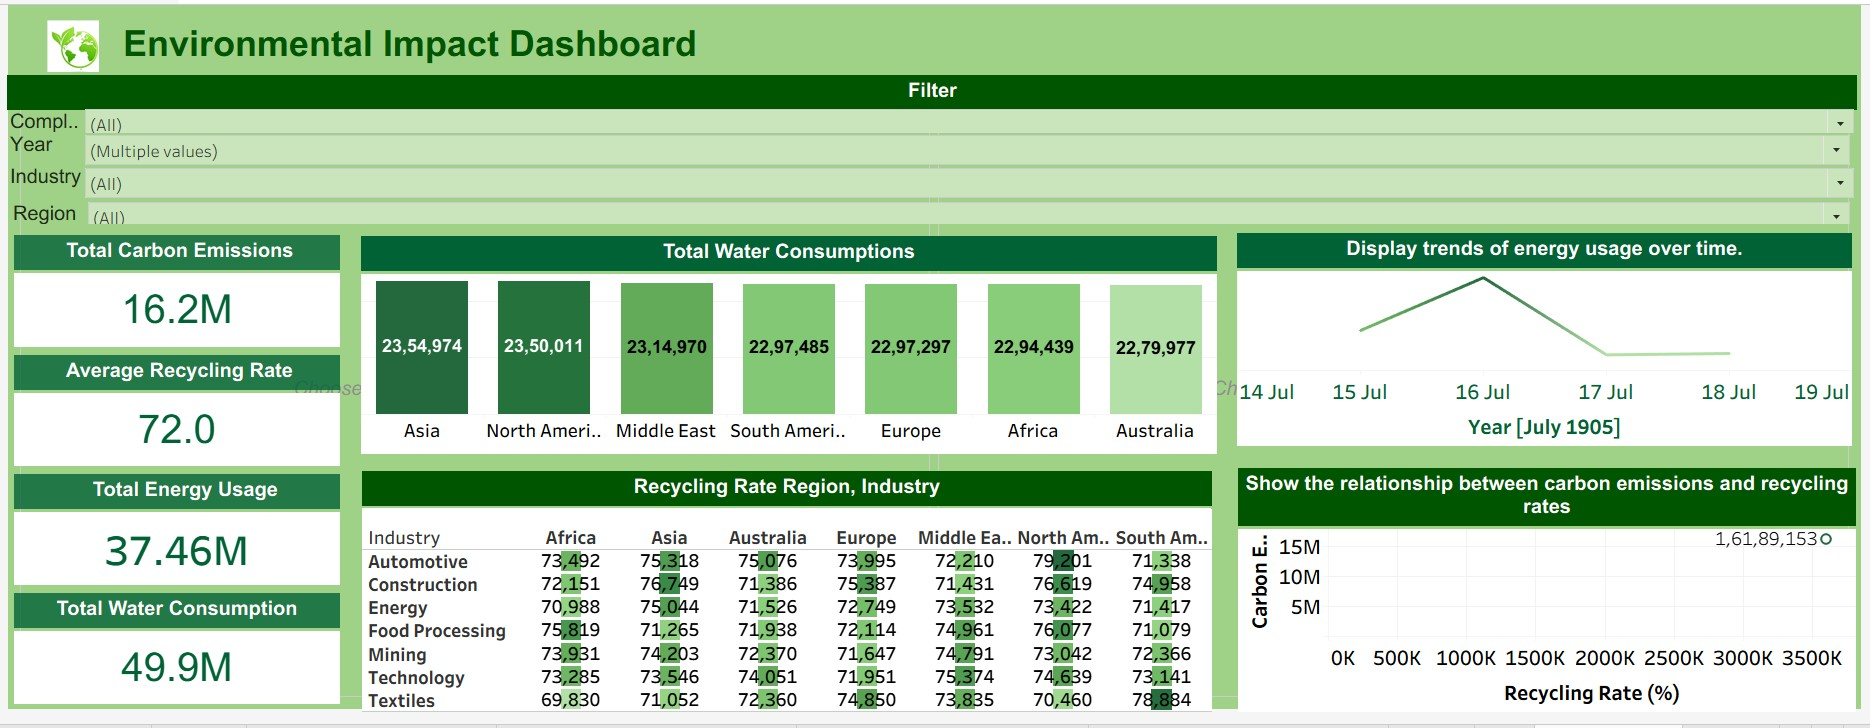

What the dashboard file says about the page in this screenshot:
{"tool":"tableau","page":{"name":"Dashboard 1","canvas":[1000,1000],"units":"permille","ordinal":0},"visuals":[{"type":"title","box":[4.3,11.4,991.4,88.1]},{"type":"image","box":[4.3,99.4,495.6,889.2]},{"type":"image","box":[500,99.4,495.7,889.2]},{"type":"filter","title":"filter","param":"[federated.0egbii51g97fl610iy6wa0r9moq6].[none:Compliance Level:nk]","box":[1.1,147.7,996.8,34.1]},{"type":"filter","title":"filter","param":"[federated.0egbii51g97fl610iy6wa0r9moq6].[yr:Year:ok]","box":[1.1,183.4,994.7,44.9]},{"type":"filter","title":"filter","param":"[federated.0egbii51g97fl610iy6wa0r9moq6].[none:Industry:nk]","box":[1.1,228.2,996.8,50.1]},{"type":"filter","title":"filter","param":"[federated.0egbii51g97fl610iy6wa0r9moq6].[none:Region:nk]","box":[2.7,279.7,993.1,31.7]},{"type":"worksheet","title":"Total Carbon Emissions ","mark":"Automatic","box":[1.1,321,180.2,170.5]},{"type":"worksheet","title":"Display trends of energy usage over time.","mark":"Automatic","rows":["Energy Usage (kWh)"],"cols":["Year"],"box":[663.2,323.9,331.9,302.6]},{"type":"worksheet","title":"Total Water Consumptions","mark":"Automatic","rows":["Carbon Emissions (kg)"],"cols":["Region"],"box":[190.5,328.1,461.9,309.7]},{"type":"worksheet","title":"Average Recycling Rate ","mark":"Automatic","box":[1.1,491.5,180.2,169]},{"type":"worksheet","title":"Sheet 9","mark":"Automatic","rows":["Carbon Emissions (kg)"],"cols":["Recycling Rate (%)"],"box":[664,657,333.5,347]},{"type":"worksheet","title":"Total Energy Usage","mark":"Automatic","box":[1.1,660.5,180.2,169]},{"type":"worksheet","title":"Recycling Rate Region, Industry","mark":"Automatic","rows":["Industry"],"cols":["Region"],"box":[191.3,662.3,458.6,341.7]},{"type":"worksheet","title":"Total Water Consumption","mark":"Automatic","box":[1.1,829.6,180.2,169]}]}

Visuals, with their boxes on the dashboard's canvas, which has no fixed pixel size, in thousandths of its width and height (x1, y1, x2, y2). These are canvas units, not pixel positions in the 1870x728 screenshot, which may show the page scaled, cropped or inside an application window:
title: {"left": 4, "top": 11, "right": 996, "bottom": 100}
image: {"left": 4, "top": 99, "right": 500, "bottom": 989}
image: {"left": 500, "top": 99, "right": 996, "bottom": 989}
"filter" filter: {"left": 1, "top": 148, "right": 998, "bottom": 182}
"filter" filter: {"left": 1, "top": 183, "right": 996, "bottom": 228}
"filter" filter: {"left": 1, "top": 228, "right": 998, "bottom": 278}
"filter" filter: {"left": 3, "top": 280, "right": 996, "bottom": 311}
"Total Carbon Emissions " worksheet: {"left": 1, "top": 321, "right": 181, "bottom": 492}
"Display trends of energy usage over time." worksheet: {"left": 663, "top": 324, "right": 995, "bottom": 626}
"Total Water Consumptions" worksheet: {"left": 190, "top": 328, "right": 652, "bottom": 638}
"Average Recycling Rate " worksheet: {"left": 1, "top": 492, "right": 181, "bottom": 660}
"Sheet 9" worksheet: {"left": 664, "top": 657, "right": 998, "bottom": 1004}
"Total Energy Usage" worksheet: {"left": 1, "top": 660, "right": 181, "bottom": 830}
"Recycling Rate Region, Industry" worksheet: {"left": 191, "top": 662, "right": 650, "bottom": 1004}
"Total Water Consumption" worksheet: {"left": 1, "top": 830, "right": 181, "bottom": 999}
